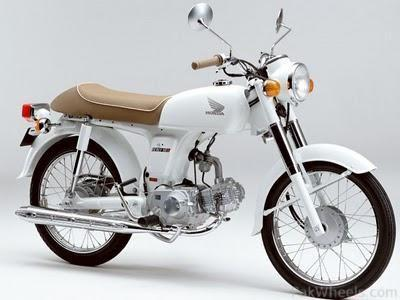bike: (16, 4, 400, 296)
